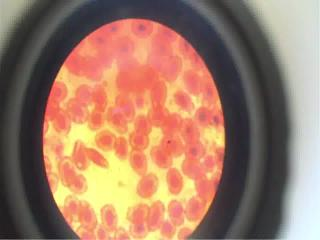cell: (134, 178, 162, 197), (148, 146, 170, 170), (72, 138, 88, 170), (123, 201, 149, 220), (67, 101, 88, 123), (184, 70, 203, 94), (87, 56, 105, 81), (165, 171, 183, 195), (101, 205, 121, 226), (95, 130, 114, 152), (154, 82, 172, 105), (132, 19, 154, 37), (50, 78, 68, 100), (53, 111, 71, 133), (192, 105, 214, 123), (71, 174, 93, 192), (88, 109, 105, 131), (116, 136, 130, 162), (132, 132, 152, 150), (156, 38, 176, 56), (66, 194, 80, 219), (189, 196, 203, 221), (175, 92, 193, 111), (151, 203, 164, 229), (68, 54, 84, 75), (94, 87, 110, 108), (89, 29, 108, 46), (169, 199, 183, 222), (75, 82, 91, 102), (82, 202, 97, 223), (116, 42, 138, 56), (149, 107, 167, 124), (59, 161, 74, 180), (135, 118, 152, 134), (188, 144, 206, 158), (132, 224, 149, 238), (110, 22, 124, 36)
